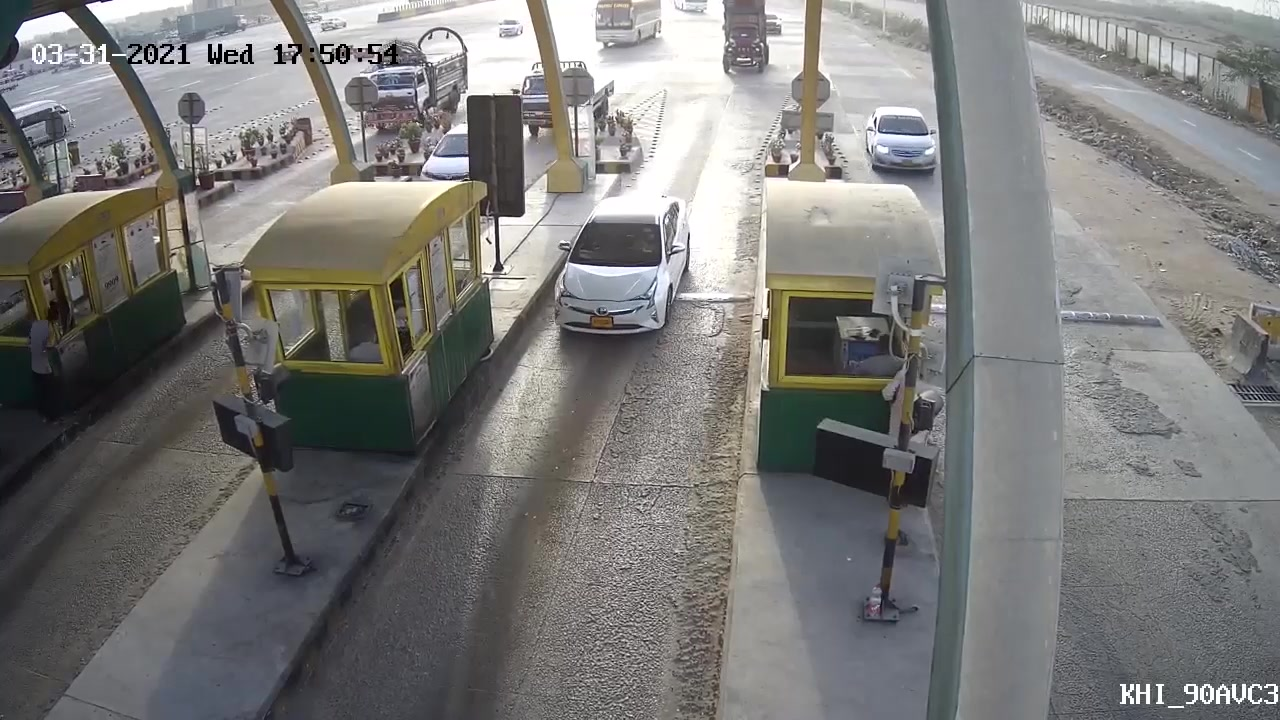F1: (539, 191, 695, 344)
